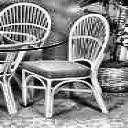chair_success: (12, 10, 120, 120)
